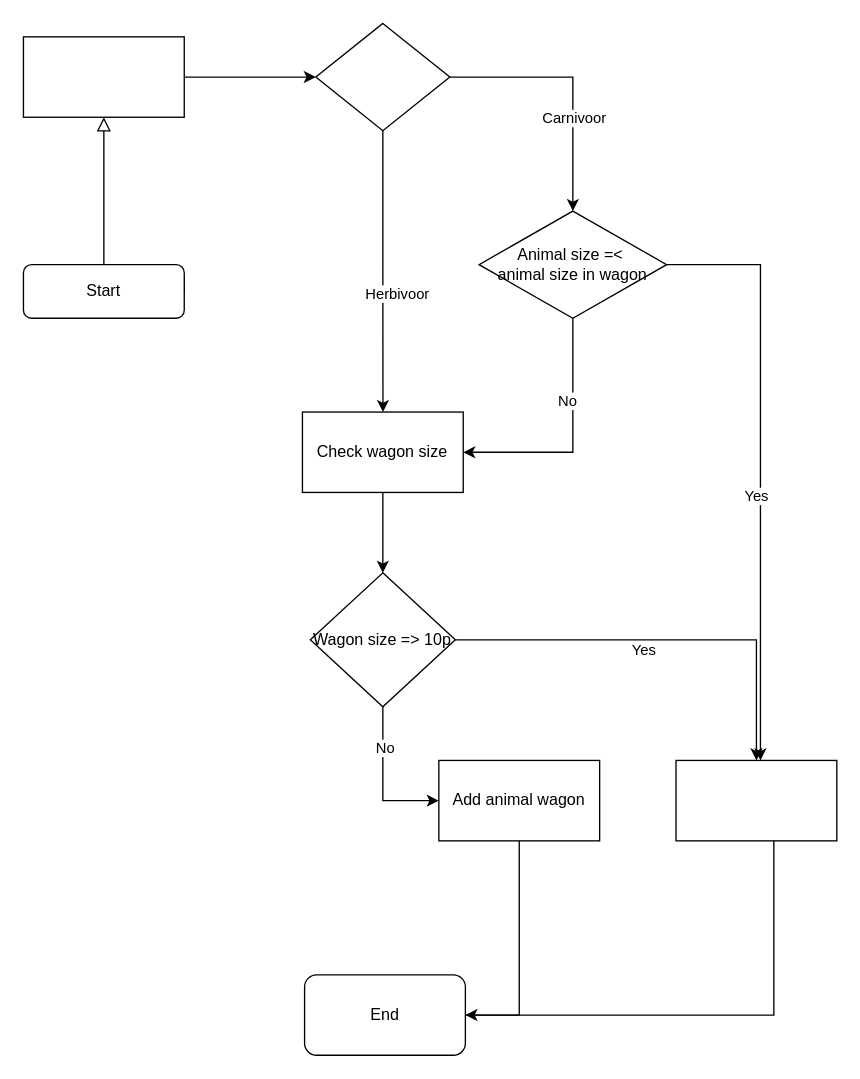
The diagram is 860 pixels wide and 1079 high, and some of its shapes have lost their labels. The centre of each missing label's shape, as x and y in pixels:
"Carnivoor or Herbivoor" belongs at pixel 382 76.
"Make new wagon" belongs at pixel 756 800.
"Take Animal from input" belongs at pixel 103 76.
